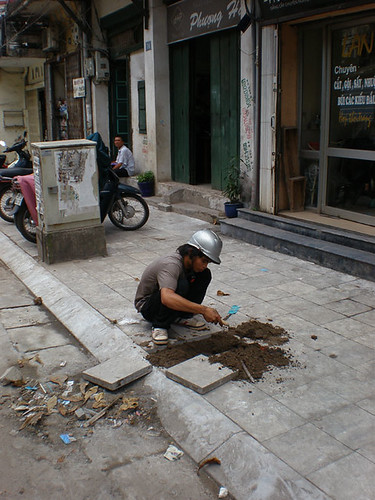person hardhat: (109, 227, 236, 357)
